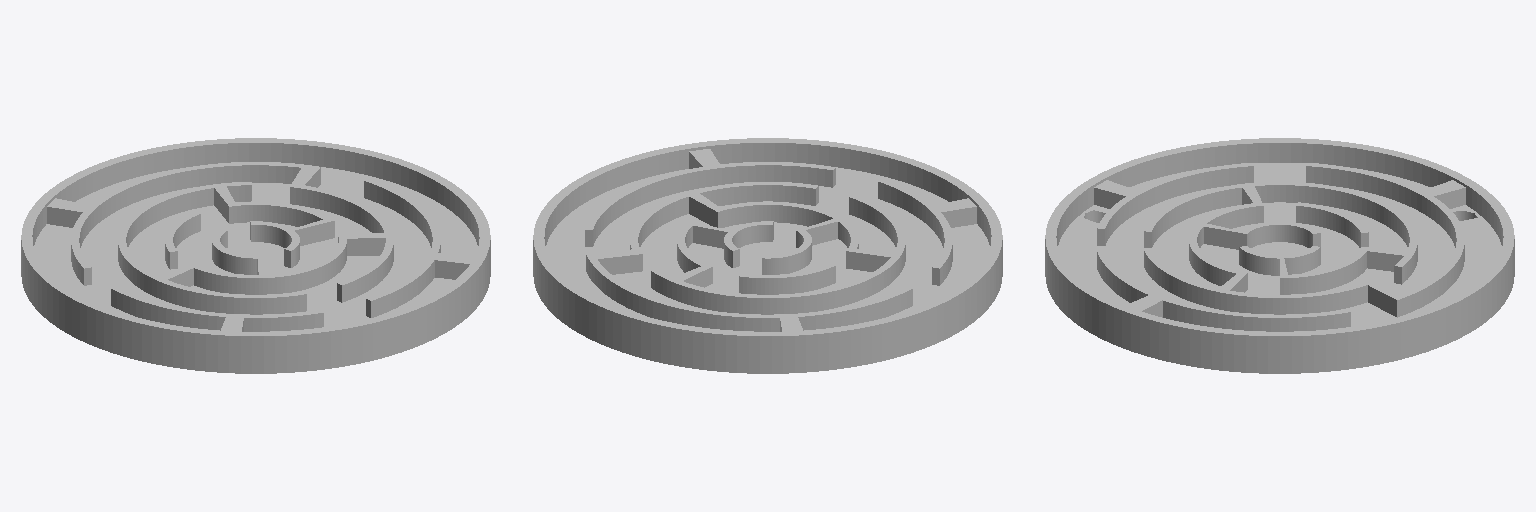
Rendered from night9.obj.
3 views of the same model, side by side, from view 1: azimuth 30°, elevation 25°; view 2: azimuth 150°, elevation 25°; view 3: azimuth 270°, elevation 25° (orthographic).
Parts seen in each view (by area): view 1: Cylinder; view 2: Cylinder; view 3: Cylinder.
Part boxes in pixels (left/top/right/bottom): Cylinder: left=21, top=138, right=490, bottom=373; Cylinder: left=533, top=138, right=1002, bottom=373; Cylinder: left=1045, top=138, right=1514, bottom=373.
Size of the model in its own units: 3.4 by 0.3 by 3.4.